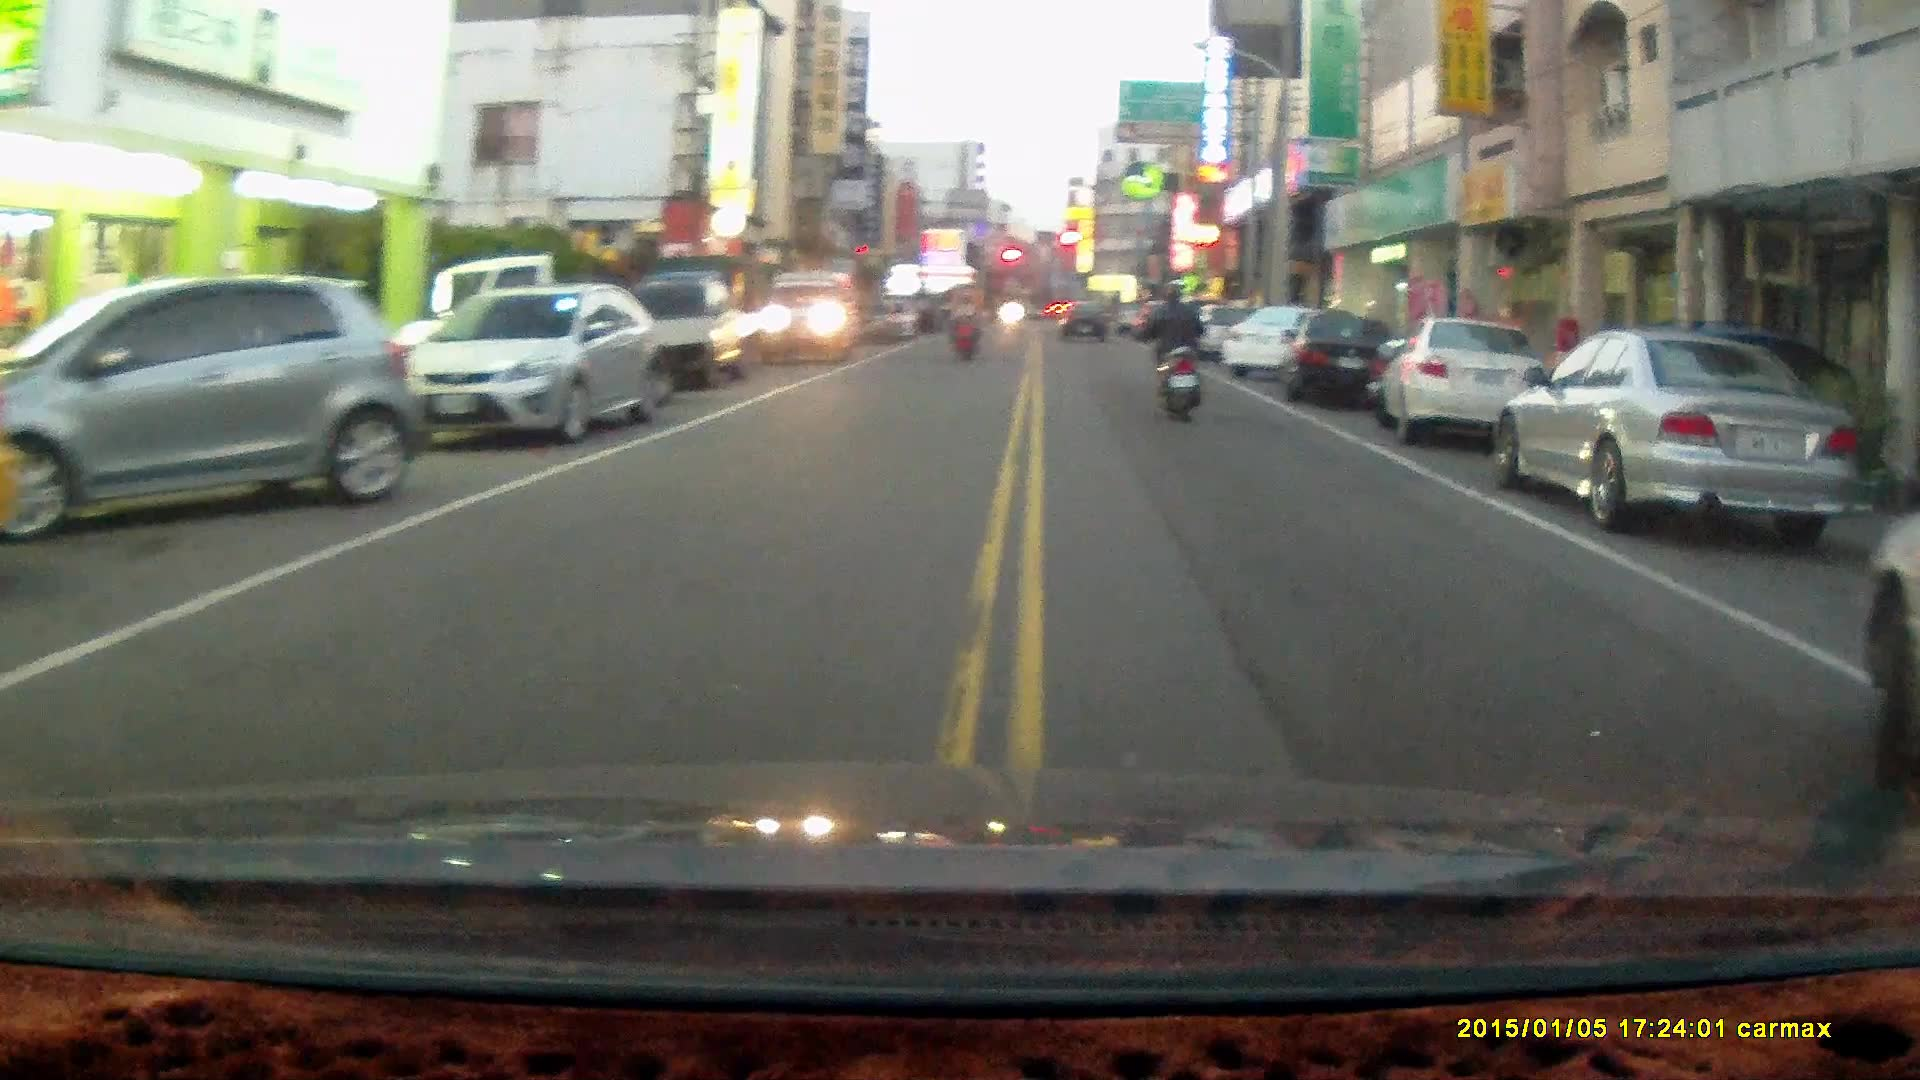rider: (1140, 281, 1208, 425), (947, 283, 979, 365)
vehicle: (4, 275, 415, 547), (1502, 324, 1867, 538), (401, 282, 666, 448), (1385, 317, 1555, 445), (617, 270, 762, 394), (1282, 306, 1400, 411), (763, 267, 869, 365)
